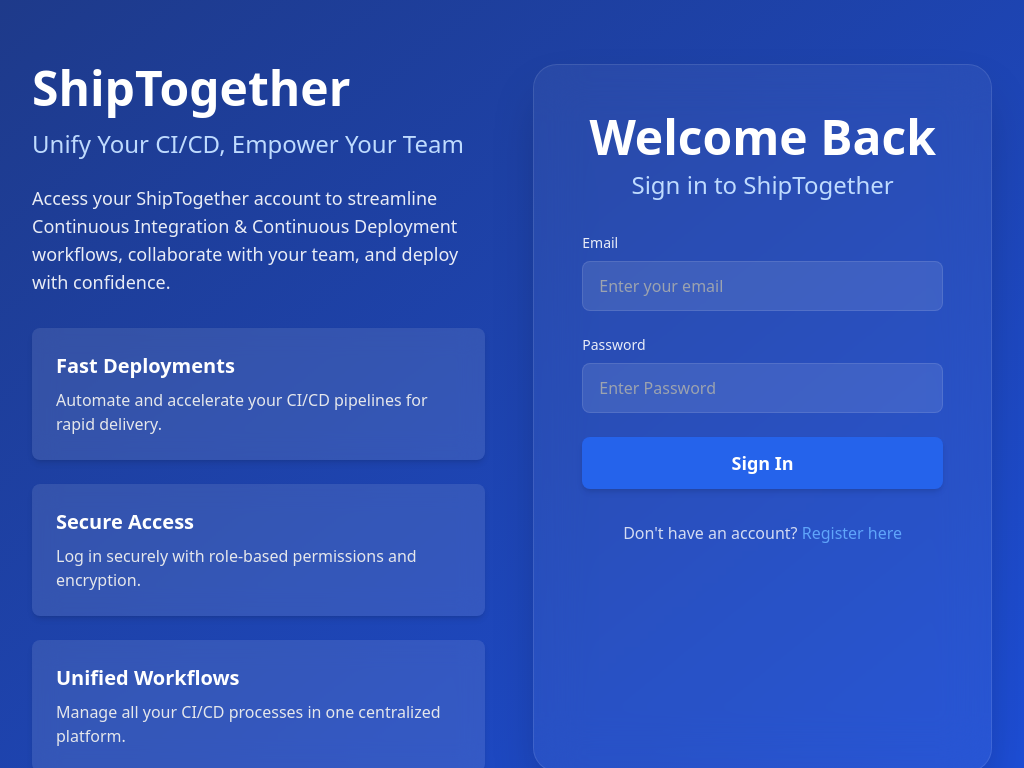
Scenario: Login Component › Form Submission - Error Handling › displays error message on login failure
Step 1. Type "test@example.com" into the field with placeholder "Enter your email" → (763, 286), box [582,261,943,311]
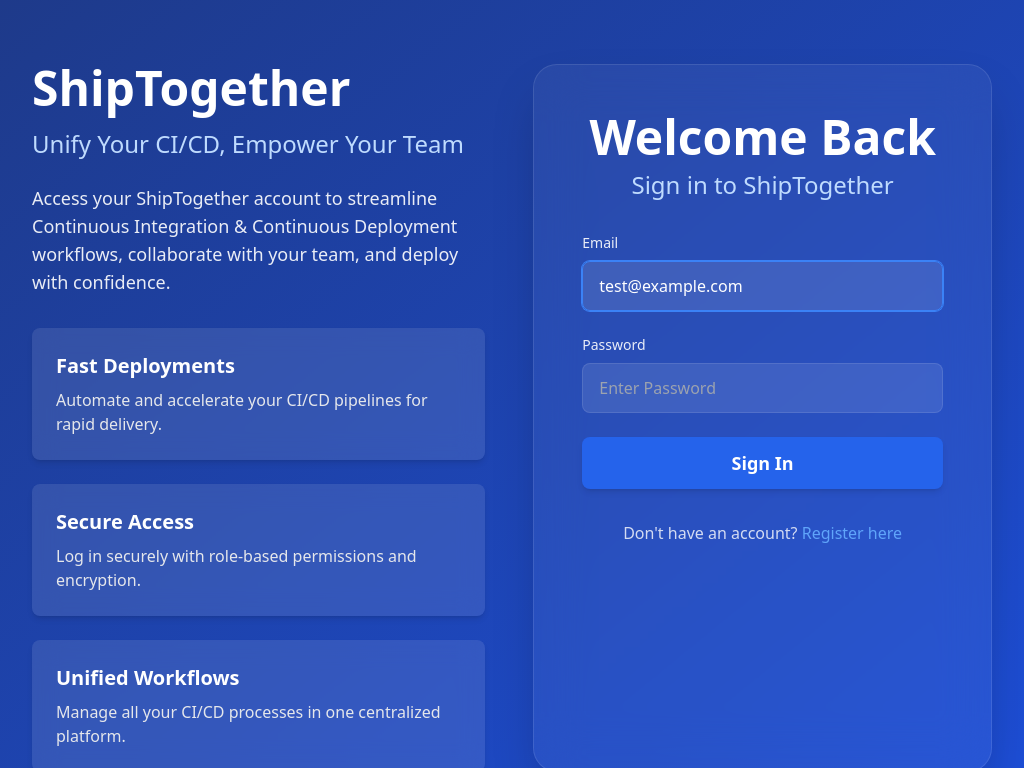
Step 2. Type "wrongpassword" into the password field with placeholder "Enter Password" → (763, 388), box [582,363,943,413]
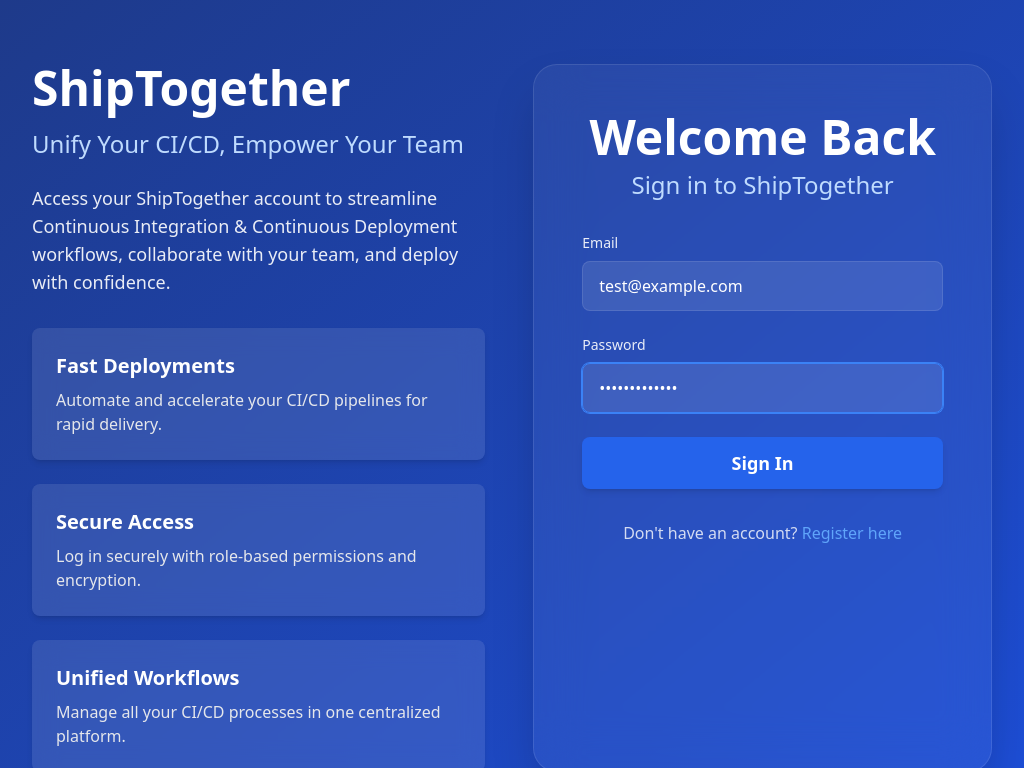
Step 3. Click the button "Sign In" → (763, 463), box [582,437,943,489]
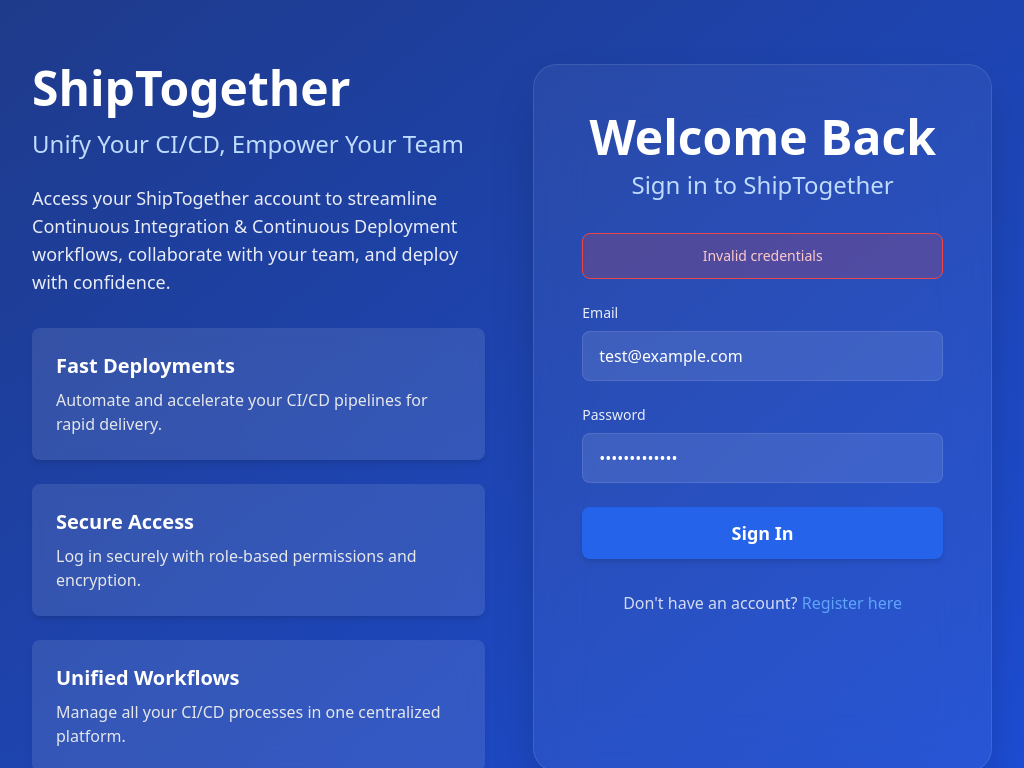
Expected: the text "Invalid credentials" is shown, [582,233,943,279]
